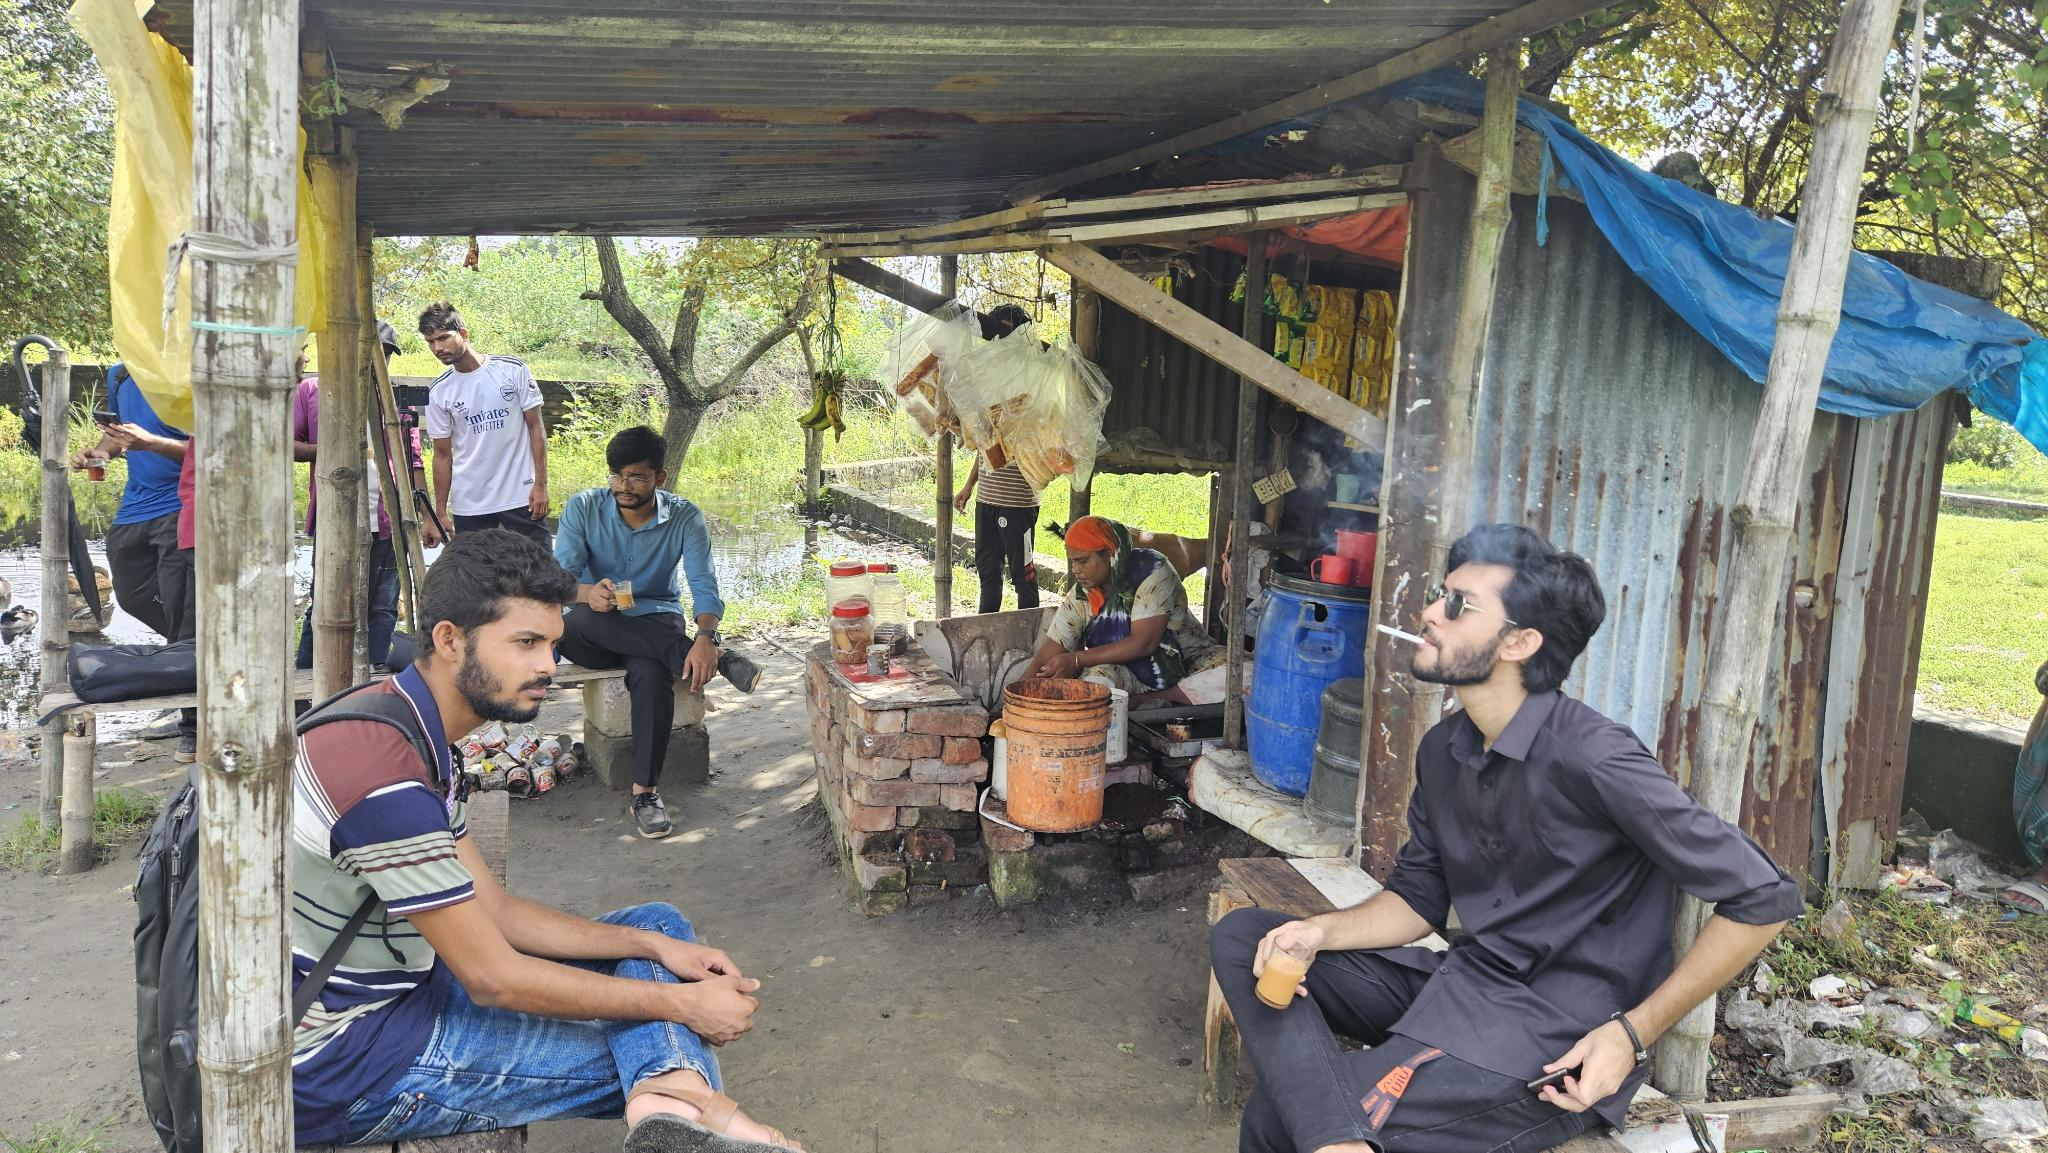cigarette: (1371, 620, 1431, 651)
nonSmoker: (284, 527, 800, 1153), (556, 426, 762, 838), (1034, 506, 1221, 719), (419, 299, 551, 551)
smoker: (1198, 527, 1795, 1153)
